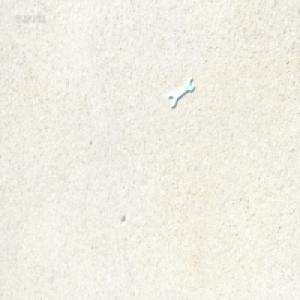Wrench: (169, 78, 194, 108)
